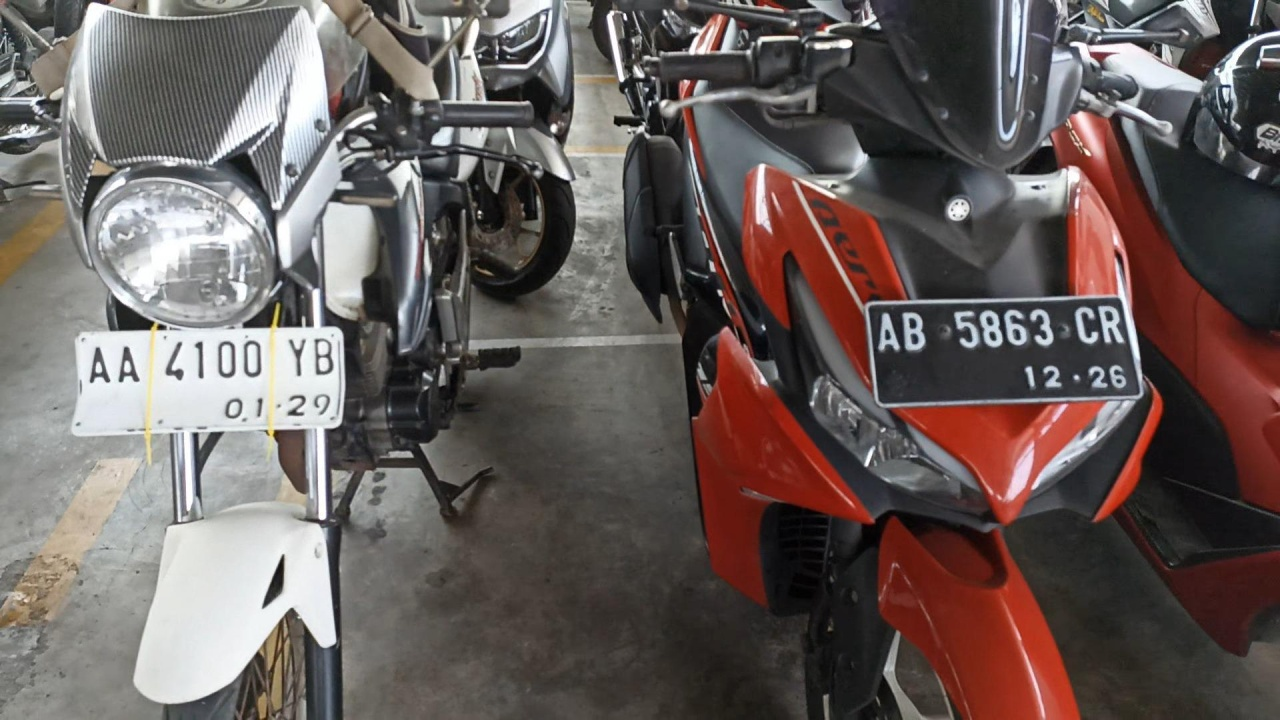plate: (866, 293, 1144, 408), (71, 326, 346, 436)
